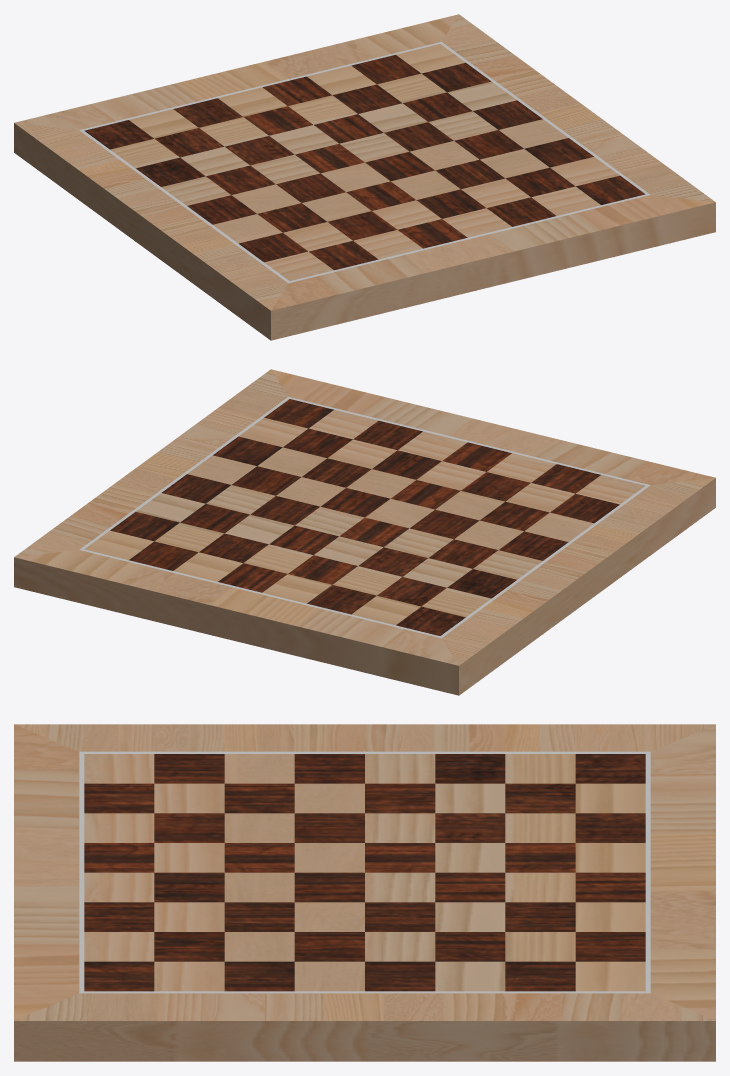
The model's file is ChessBoard.fbx.
3 renders of one model, top to bottom at view 1: azimuth 30°, elevation 25°; view 2: azimuth 150°, elevation 25°; view 3: azimuth 270°, elevation 25°, orthographic. The views are drawn at different scales.
Visible parts, largest first — view 1: Cube; view 2: Cube; view 3: Cube.
Part boxes in pixels (bbox=[...]): Cube: bbox=[14, 14, 715, 340]; Cube: bbox=[14, 369, 715, 695]; Cube: bbox=[14, 724, 715, 1061].
Size of the model in its own units: 1131 by 72.43 by 1131.
